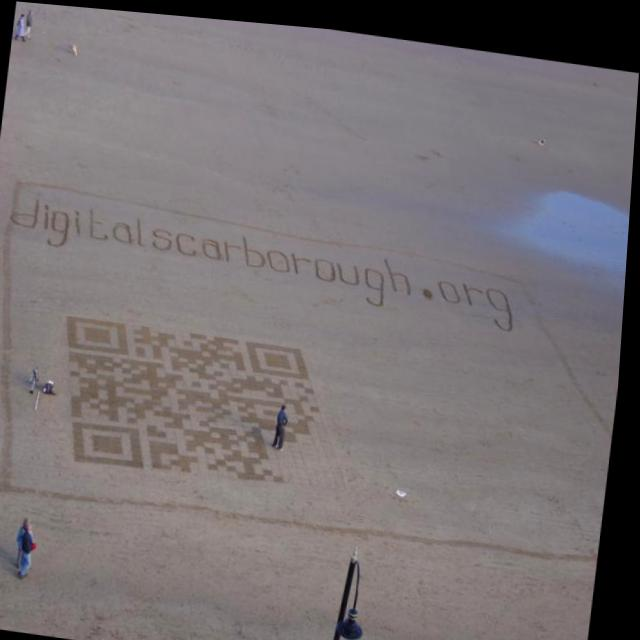qrcode: (56, 315, 369, 493)
